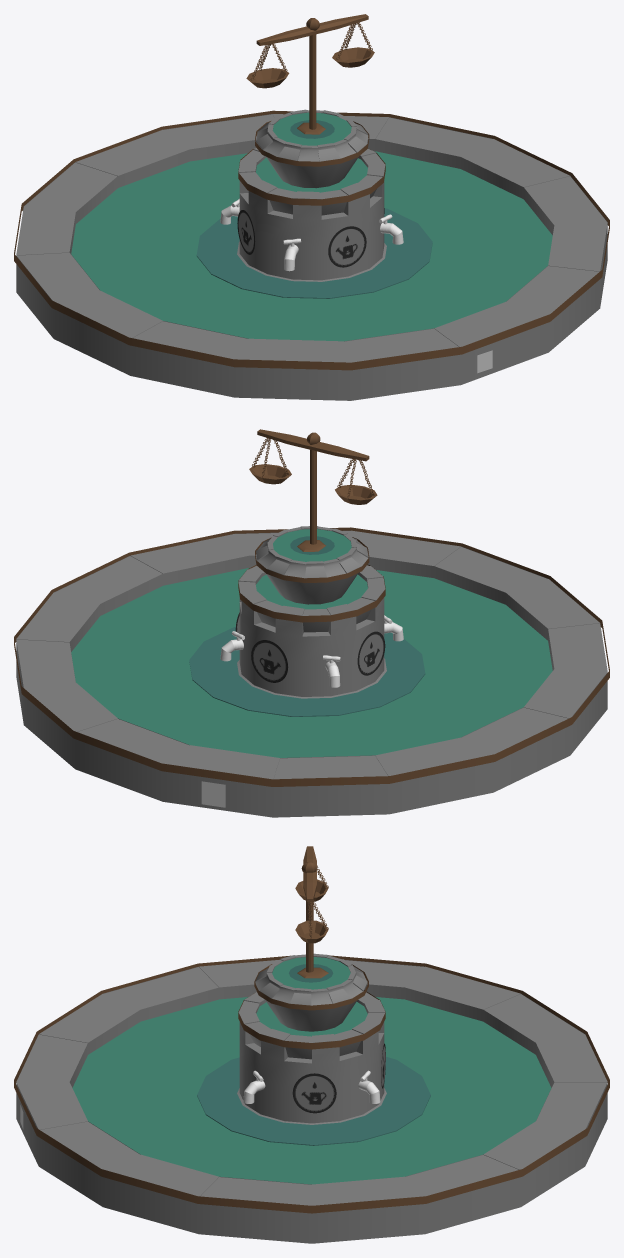
Rendered from 1fuente_justicia_equilibrada_canillas.fbx.
3 views of the same model, one above another, from view 1: azimuth 30°, elevation 25°; view 2: azimuth 150°, elevation 25°; view 3: azimuth 270°, elevation 25° (orthographic).
Visible parts, largest first — view 1: fuente.004, fuente.002, Circle.001, Cylinder.001, Circle.002; view 2: fuente.004, fuente.002, Circle, Cylinder.001, Circle.002, Plane.002; view 3: fuente.004, fuente.002, Circle.003, Cylinder.001.
Boxes of the visible parts, x1,y1,x2,y2 form: fuente.004: [14, 14, 609, 400]; fuente.002: [71, 112, 552, 341]; Circle.001: [328, 226, 366, 267]; Cylinder.001: [220, 198, 403, 271]; Circle.002: [237, 210, 255, 254]; fuente.004: [14, 429, 609, 817]; fuente.002: [71, 529, 552, 757]; Circle: [251, 640, 288, 682]; Cylinder.001: [220, 615, 403, 687]; Circle.002: [357, 631, 385, 675]; Plane.002: [201, 781, 225, 807]; fuente.004: [14, 846, 609, 1243]; fuente.002: [72, 957, 551, 1184]; Circle.003: [292, 1073, 336, 1113]; Cylinder.001: [243, 1070, 380, 1103].
Size of the model in its own units: 201 by 96.16 by 201.
